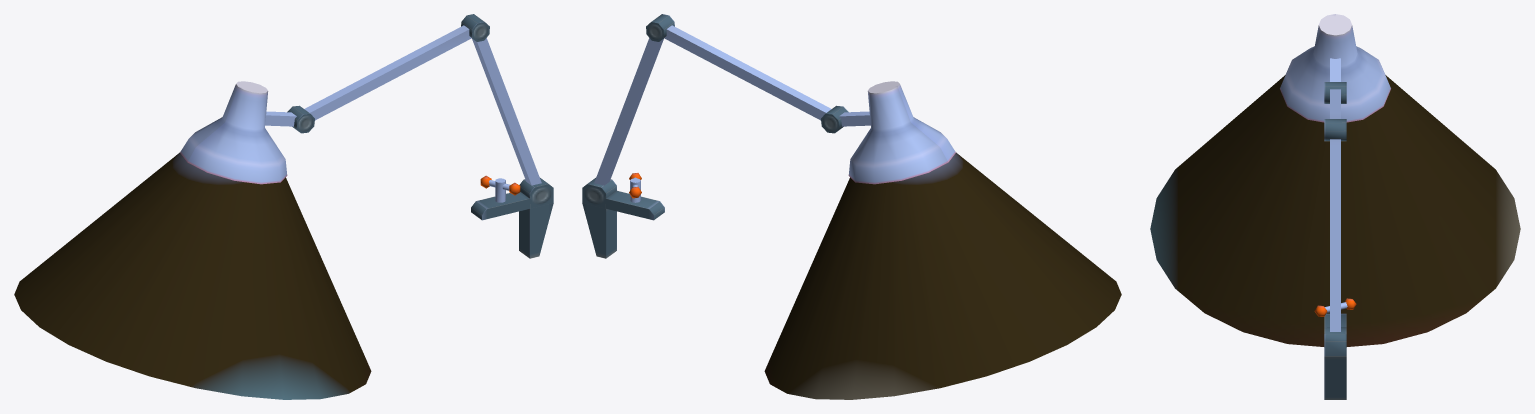
The model's file is teen11.gltf.
The picture shows the model from 3 angles, left to right: view 1: azimuth 30°, elevation 25°; view 2: azimuth 150°, elevation 25°; view 3: azimuth 270°, elevation 25°; orthographic projection.
Parts seen in each view (by area): view 1: teen11; view 2: teen11; view 3: teen11.
Part boxes in pixels (<box>): teen11: <box>14,14,553,399</box>; teen11: <box>582,14,1121,399</box>; teen11: <box>1150,14,1520,399</box>.
Size of the model in its own units: 107 by 57.7 by 66.5.
3 materials, 3 textured.
